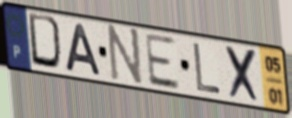A: (63, 21, 104, 77)
D: (26, 11, 67, 74)
E: (143, 31, 182, 92)
L: (191, 41, 223, 97)
N: (107, 23, 144, 89)
X: (224, 44, 263, 107)
